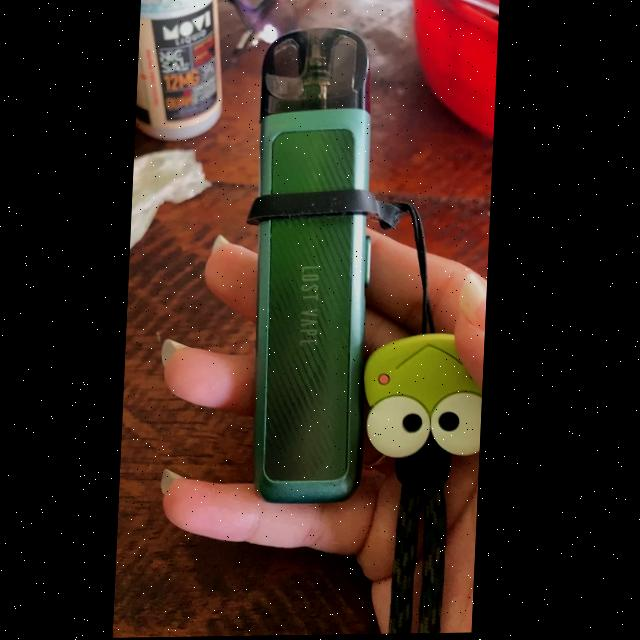vape: (245, 28, 376, 506)
